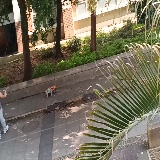fire: (51, 85, 56, 90)
